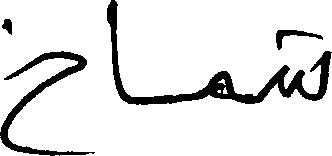X: (0, 14, 85, 155), (279, 25, 331, 105), (107, 0, 125, 106), (208, 66, 233, 104)
